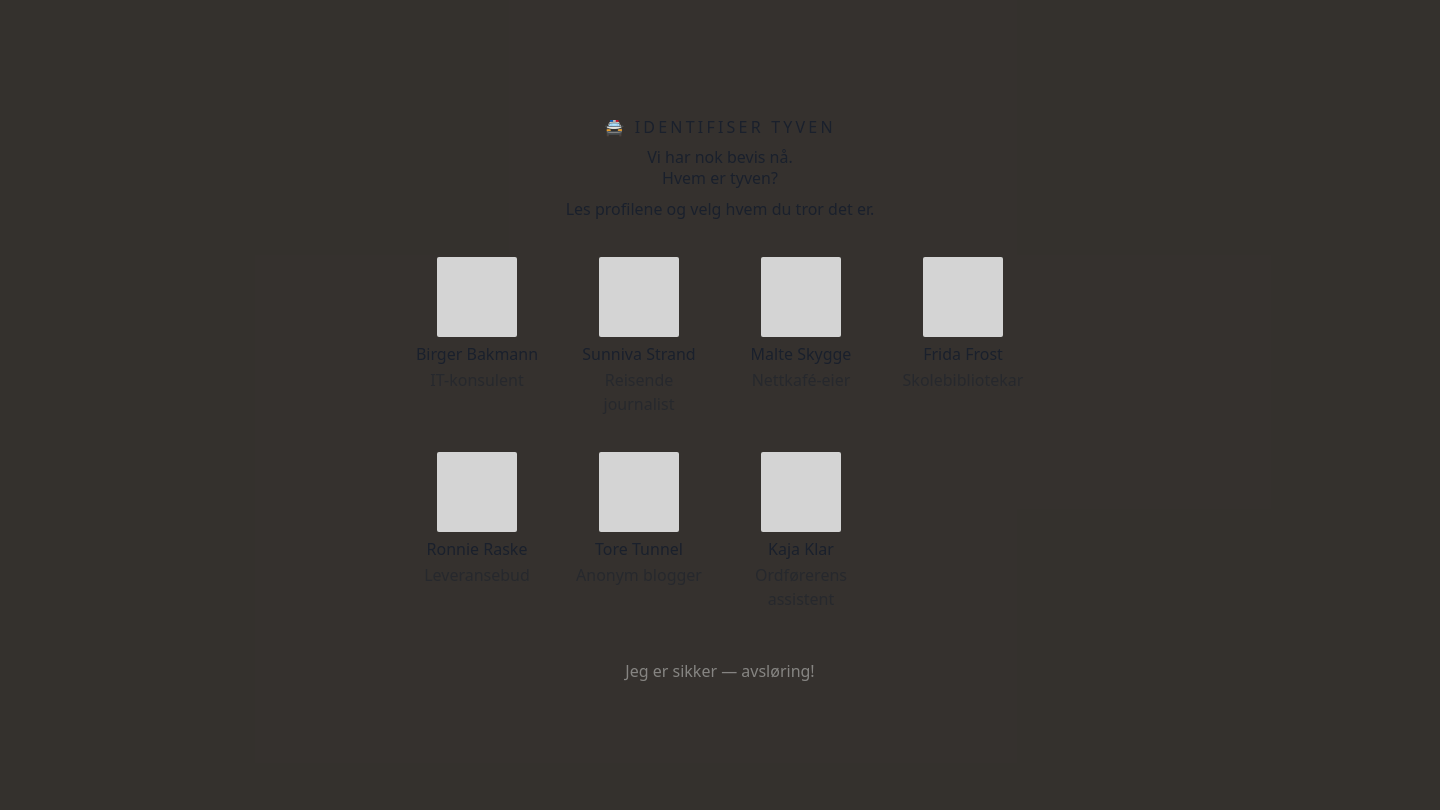
Test: SuspectLineup › confirm button is enabled after selecting a suspect
Click the button with class "suspect-card" that starts with "Birger Bakmann".
click(477, 336)  # box x1=402 y1=245 x2=552 y2=428
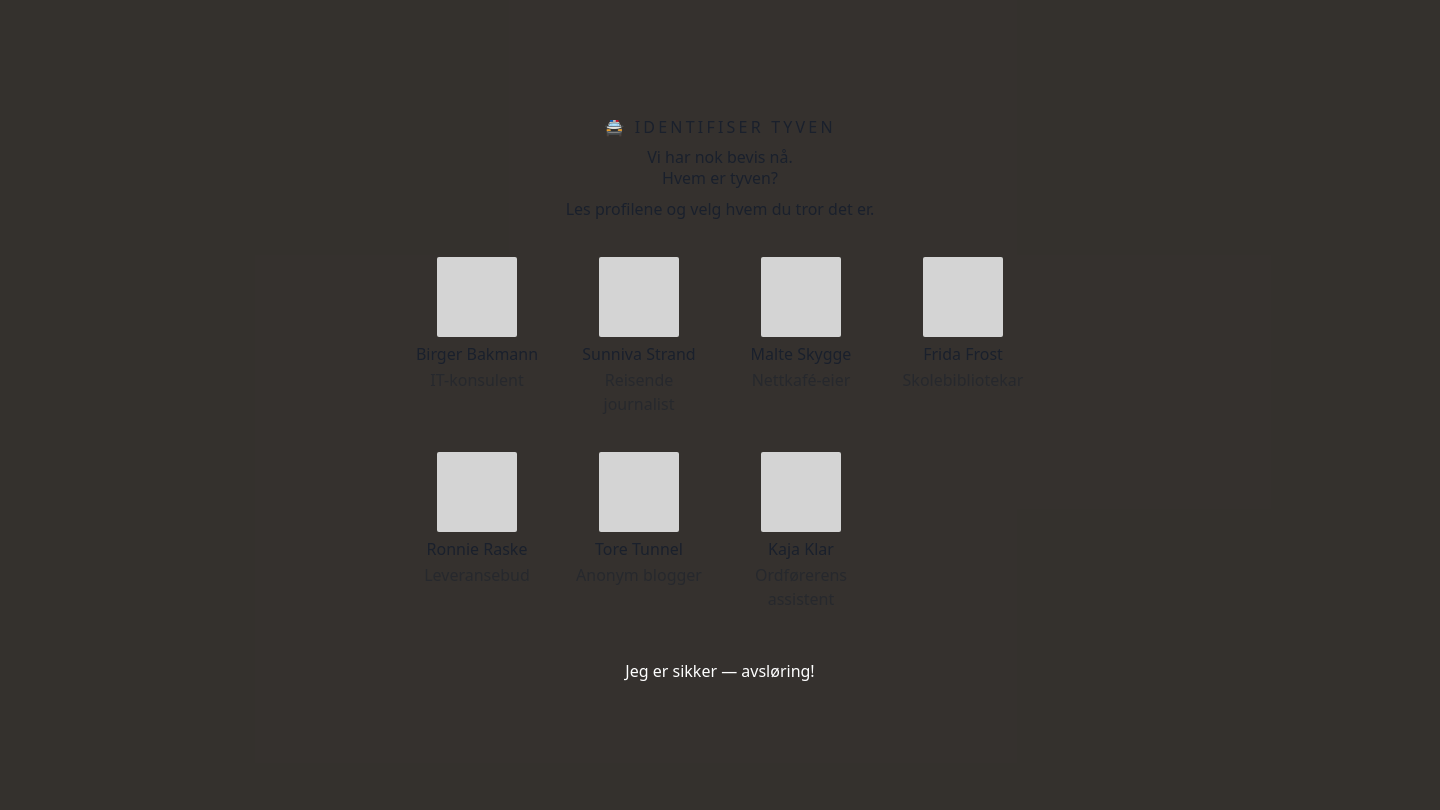
Expected: the button with class "lineup__confirm" is enabled, x1=593 y1=647 x2=847 y2=695
